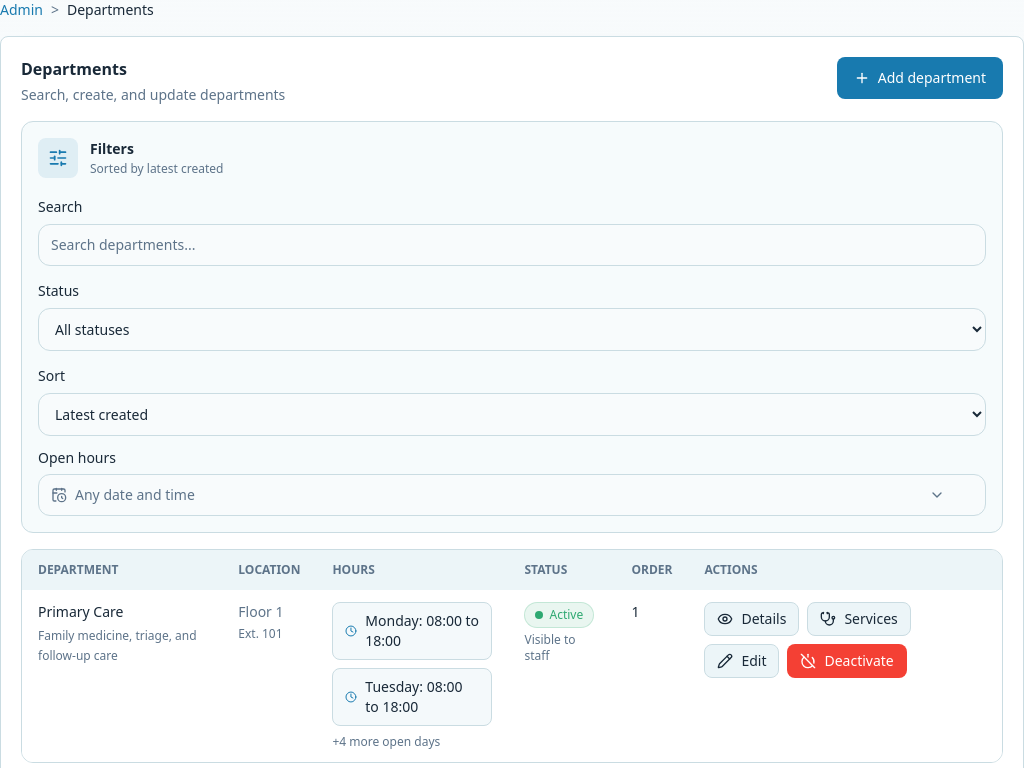
DepartmentsPage › edits operating hours with day controls instead of raw JSON
Expected: the text "Primary Care" is shown, [38,602,124,621]
Click the button "Edit" at (742, 661), box [704,644,780,678]
(page scrolled)
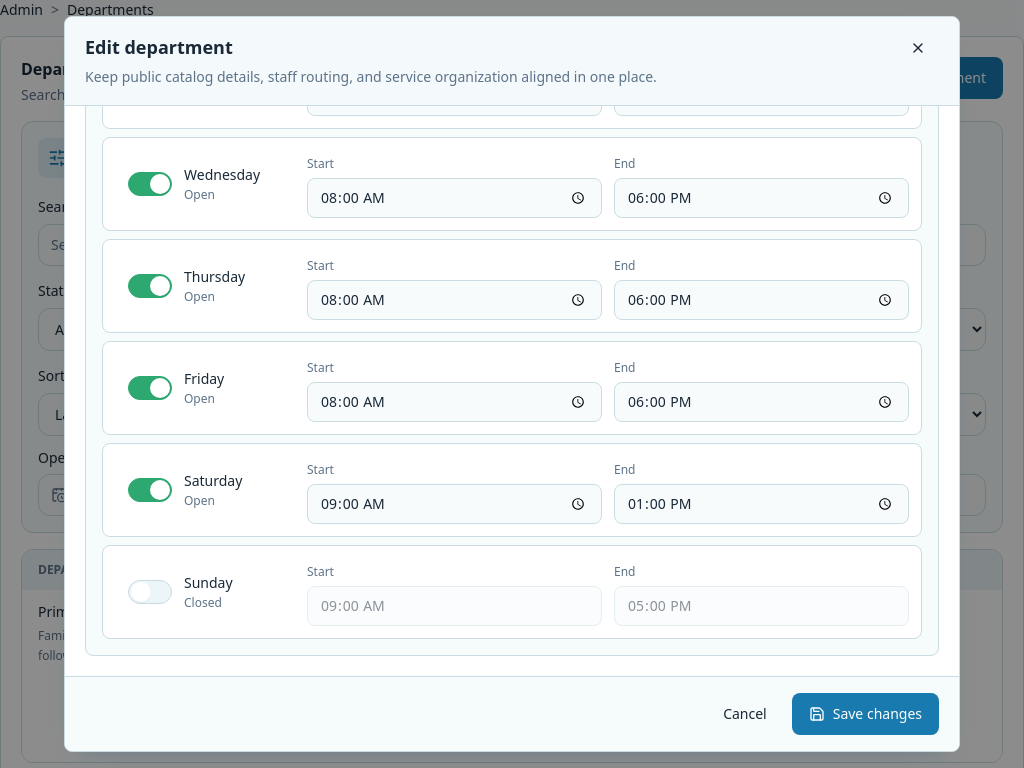
Expected: the time field with id "department-hours-friday-end" holds "18:00", [614,382,909,422]
Expected: the time field with id "department-hours-saturday-start" holds "09:00", [307,484,602,524]
Expected: the time field with id "department-hours-saturday-end" holds "13:00", [614,484,909,524]
